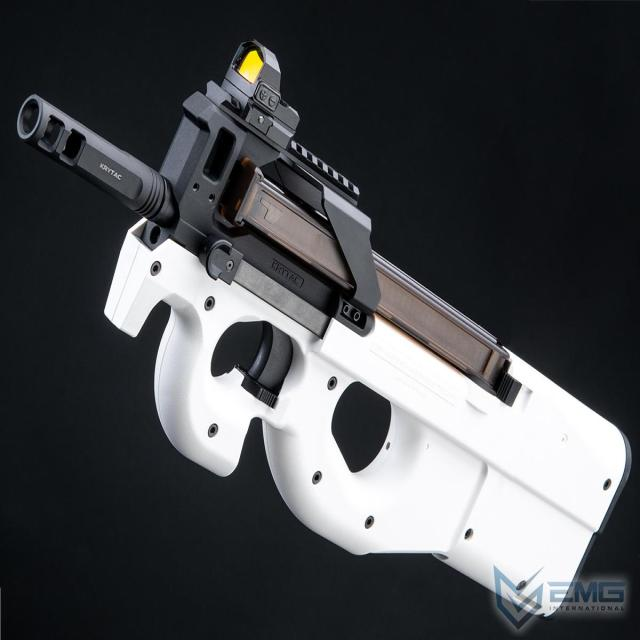Gun: (0, 7, 631, 634)
